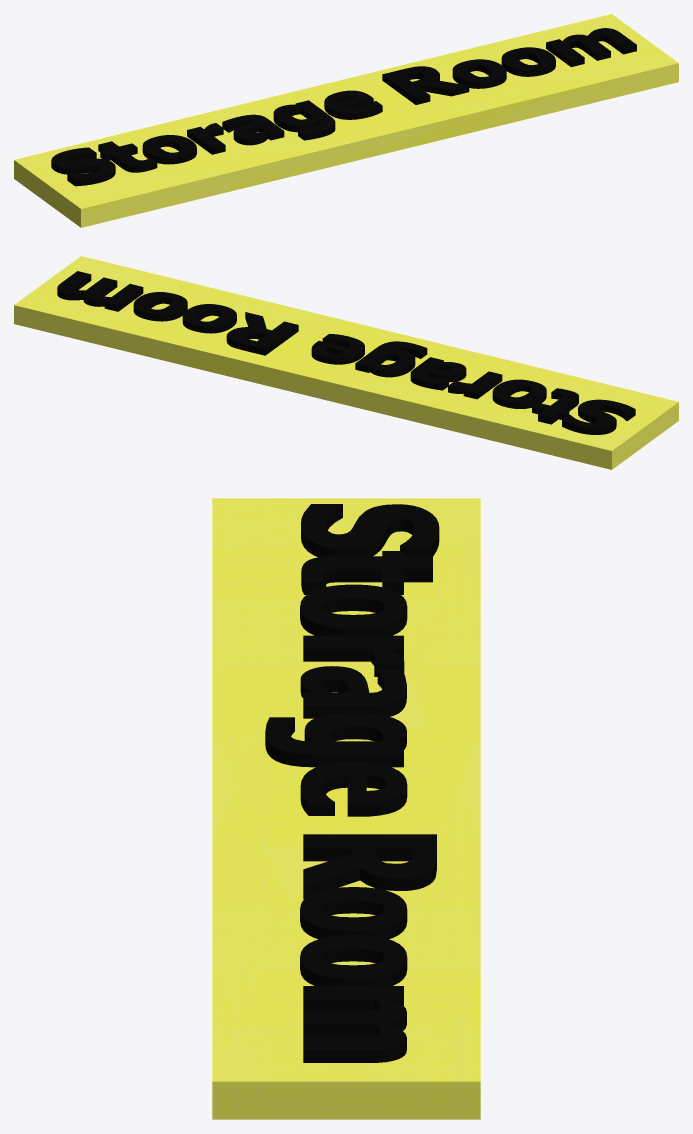
File: Storage.dae
The picture shows the model from 3 angles, top to bottom: view 1: azimuth 30°, elevation 25°; view 2: azimuth 150°, elevation 25°; view 3: azimuth 270°, elevation 25°; orthographic projection. The views are drawn at different scales.
Visible parts, largest first — view 1: SketchUp, Storage_Room_1 (×11); view 2: SketchUp, Storage_Room_1 (×11); view 3: SketchUp, Storage_Room_1 (×11).
Part boxes in pixels (x1=…): SketchUp: x1=14, y1=14, x2=678, y2=227; Storage_Room_1 (×11): x1=51, y1=28, x2=636, y2=186; SketchUp: x1=14, y1=256, x2=678, y2=469; Storage_Room_1 (×11): x1=57, y1=271, x2=635, y2=434; SketchUp: x1=212, y1=498, x2=480, y2=1119; Storage_Room_1 (×11): x1=265, y1=504, x2=439, y2=1062.
Size of the model in its own units: 98.2 by 19.1 by 3.97.
